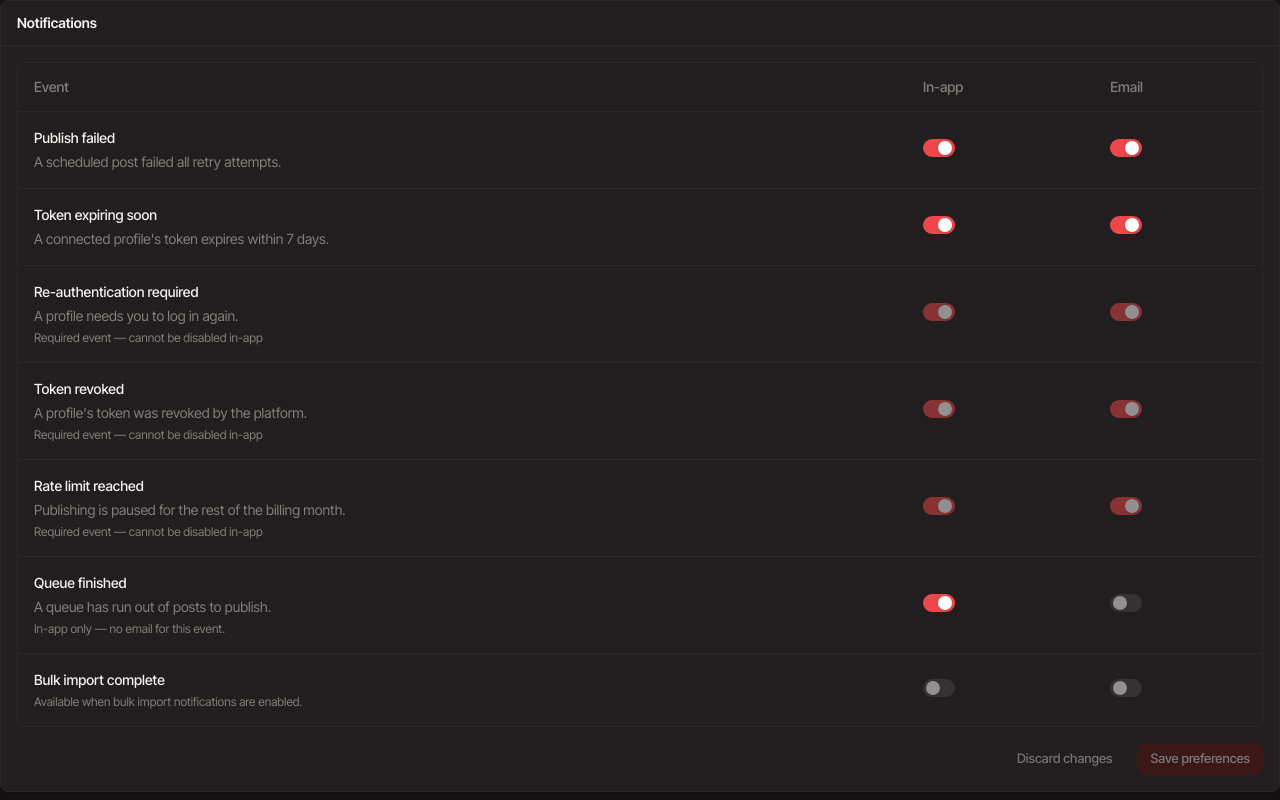
Test: NotificationsTab › clears dirty state after toggles are changed back to the saved values
Click the switch named "Token expiring soon in-app notifications".
click(939, 225)  # box top-left (923, 216), bottom-right (955, 234)
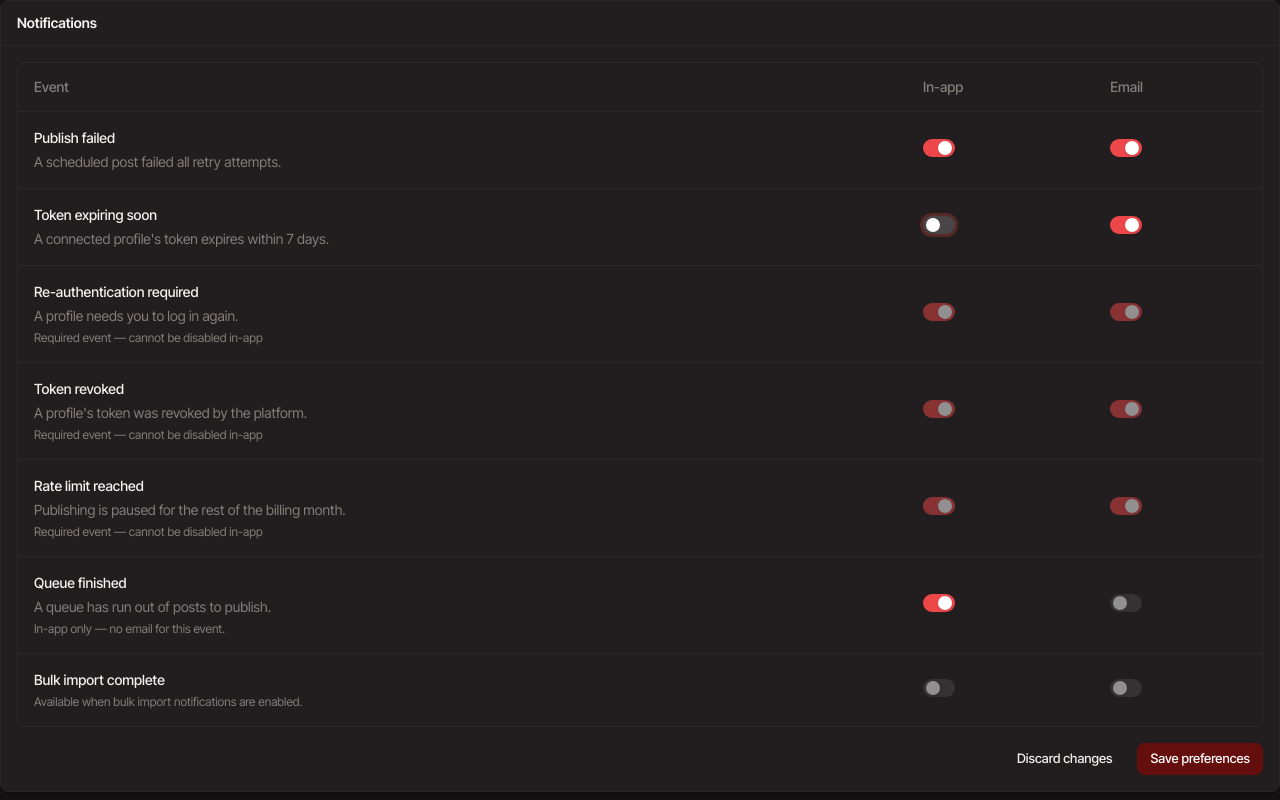
Expected: the button "Save preferences" is enabled, top-left (1138, 742), bottom-right (1263, 774)
Click the switch named "Token expiring soon in-app notifications".
click(939, 225)  # box top-left (923, 216), bottom-right (955, 234)
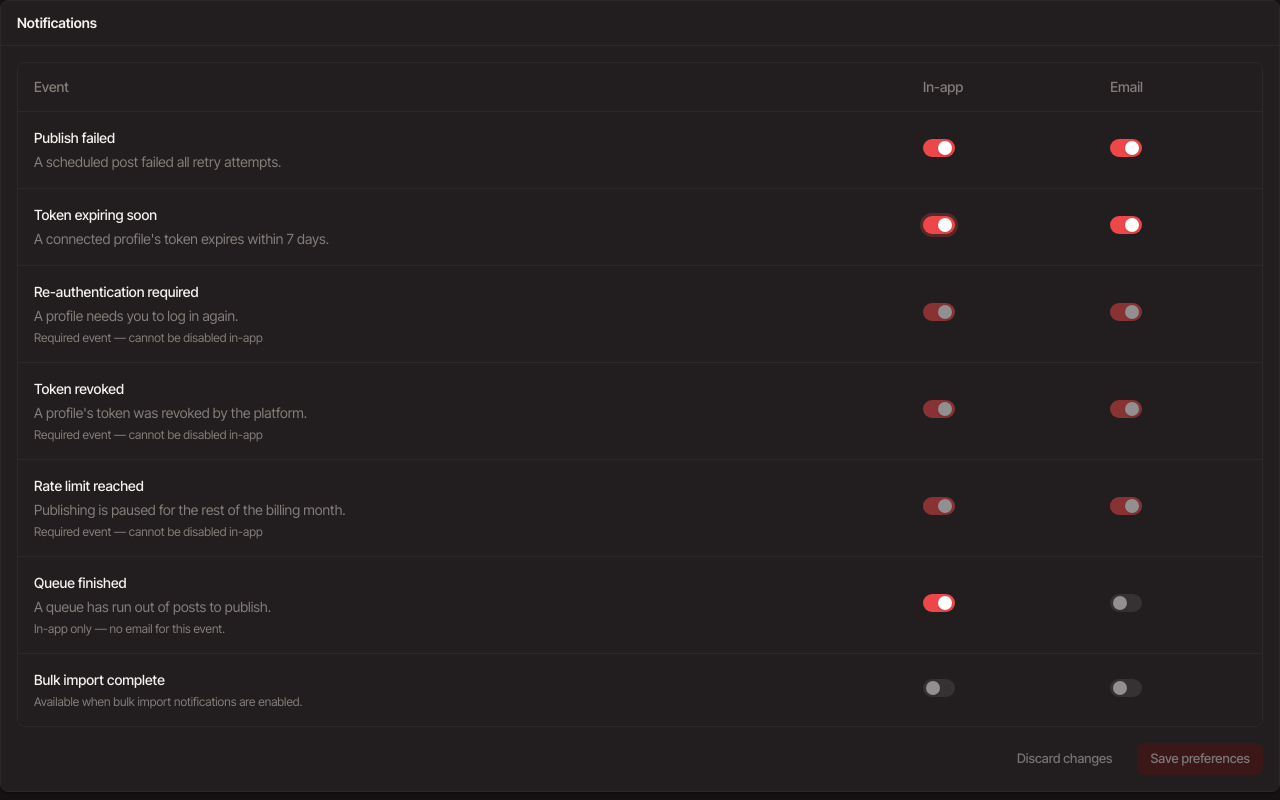
Expected: the button "Save preferences" is disabled, top-left (1138, 742), bottom-right (1263, 774)
Click the switch named "Token expiring soon in-app notifications".
click(939, 225)  # box top-left (923, 216), bottom-right (955, 234)
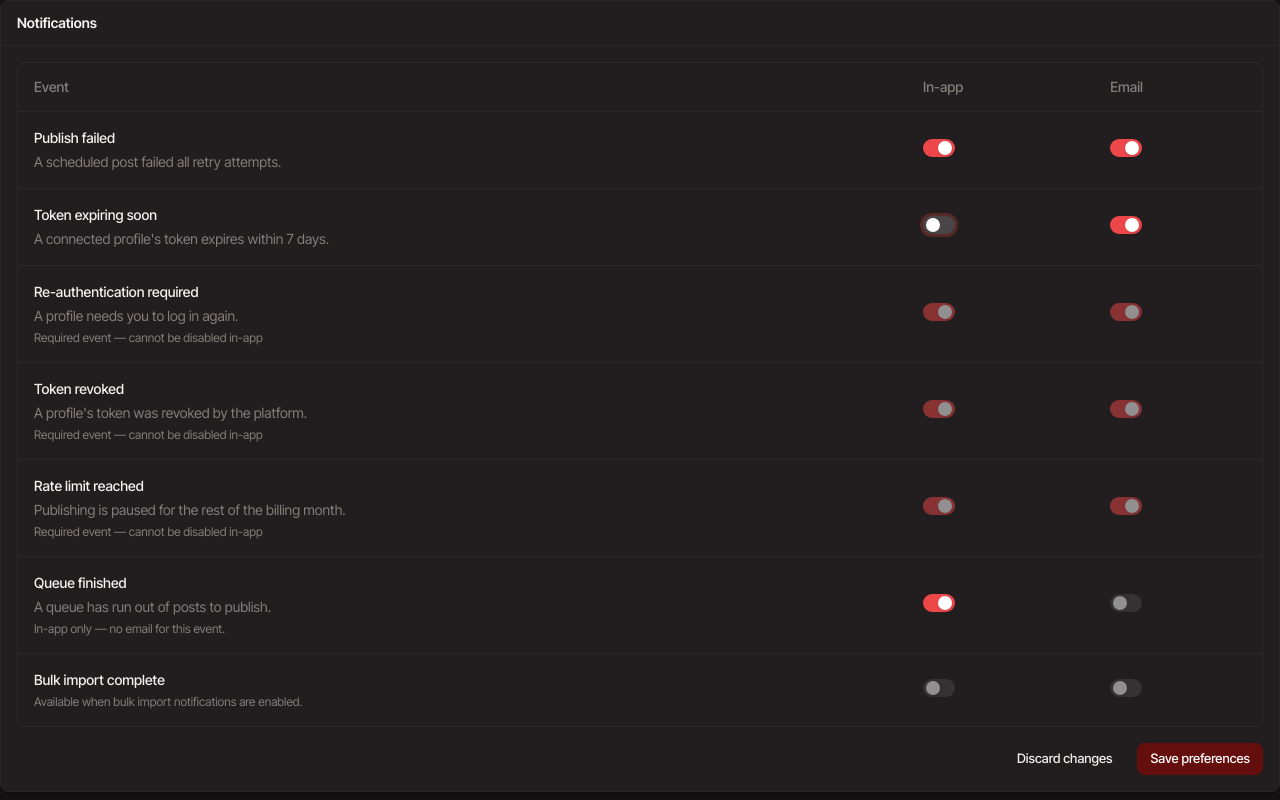
Click the switch named "Queue finished in-app notifications".
click(939, 603)  # box top-left (923, 594), bottom-right (955, 612)
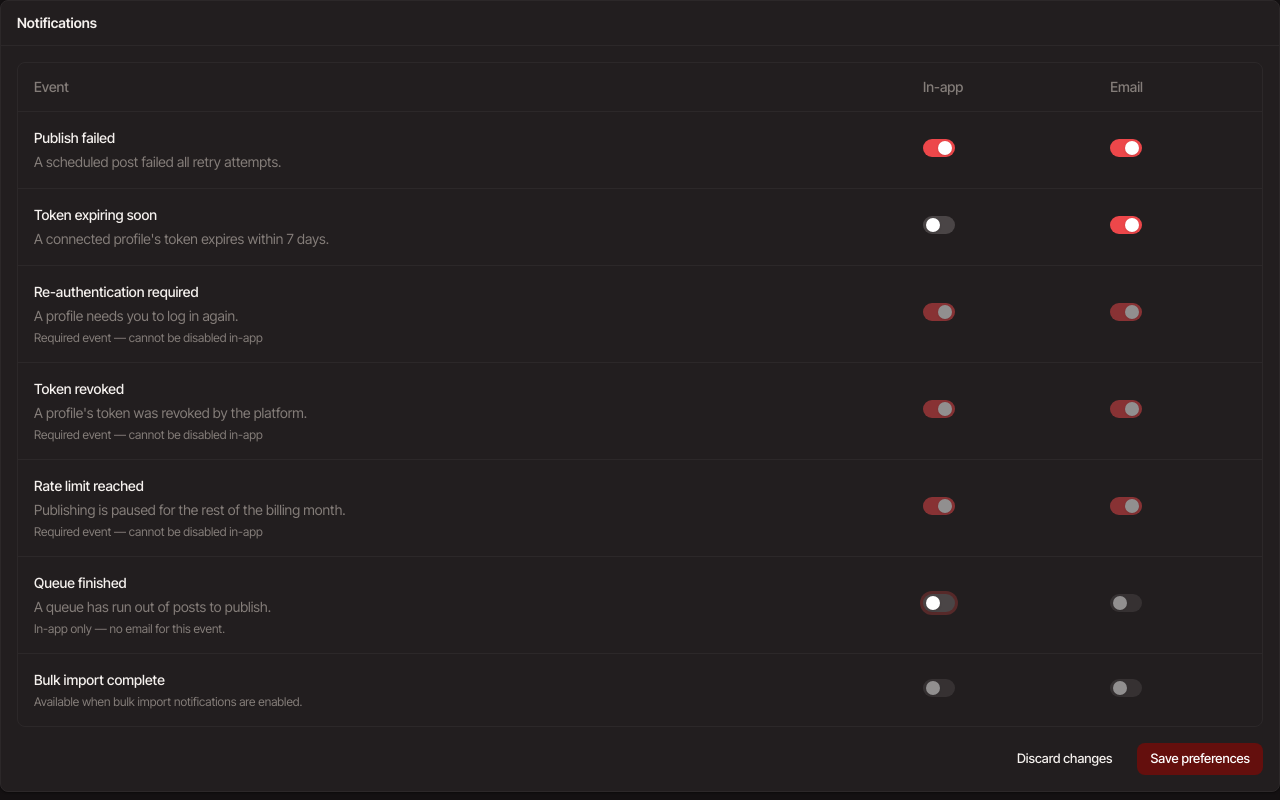
Expected: the button "Save preferences" is enabled, top-left (1138, 742), bottom-right (1263, 774)
Click the switch named "Token expiring soon in-app notifications".
click(939, 225)  # box top-left (923, 216), bottom-right (955, 234)
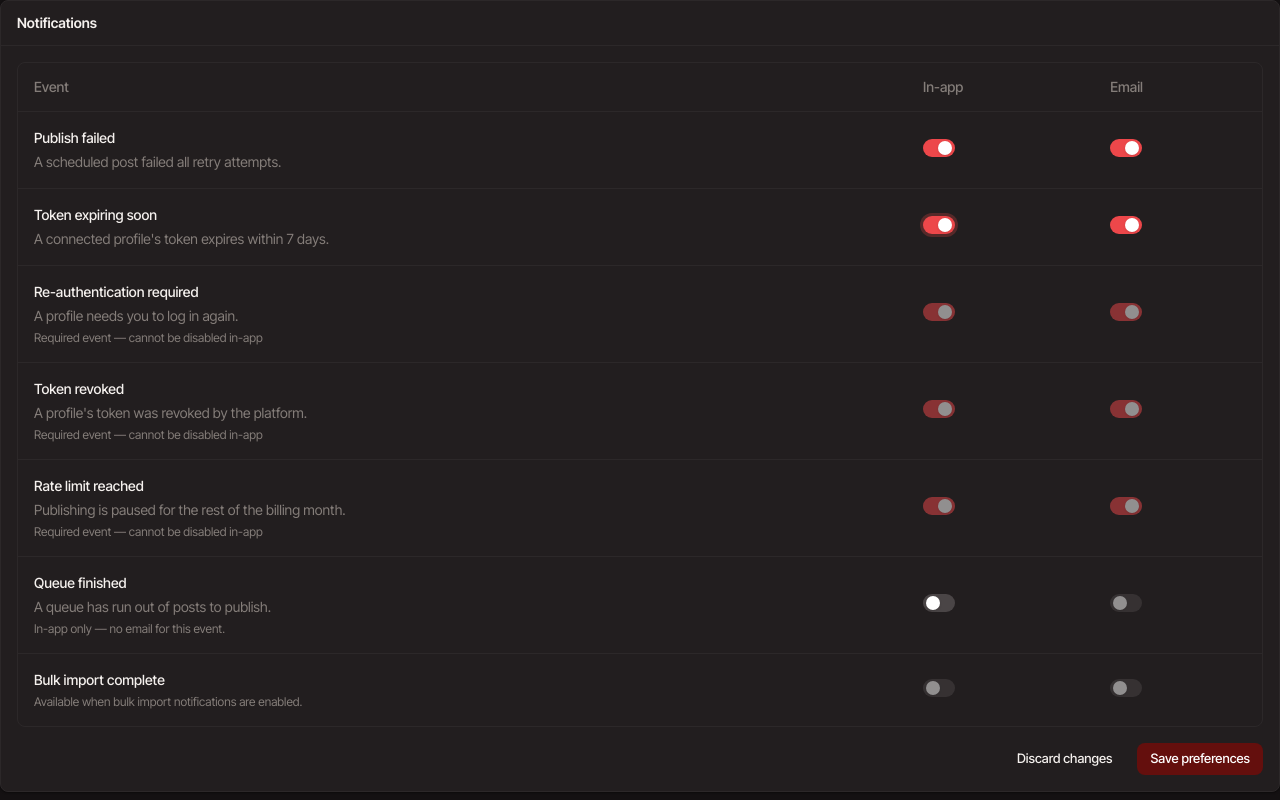
Click the switch named "Queue finished in-app notifications".
click(939, 603)  # box top-left (923, 594), bottom-right (955, 612)
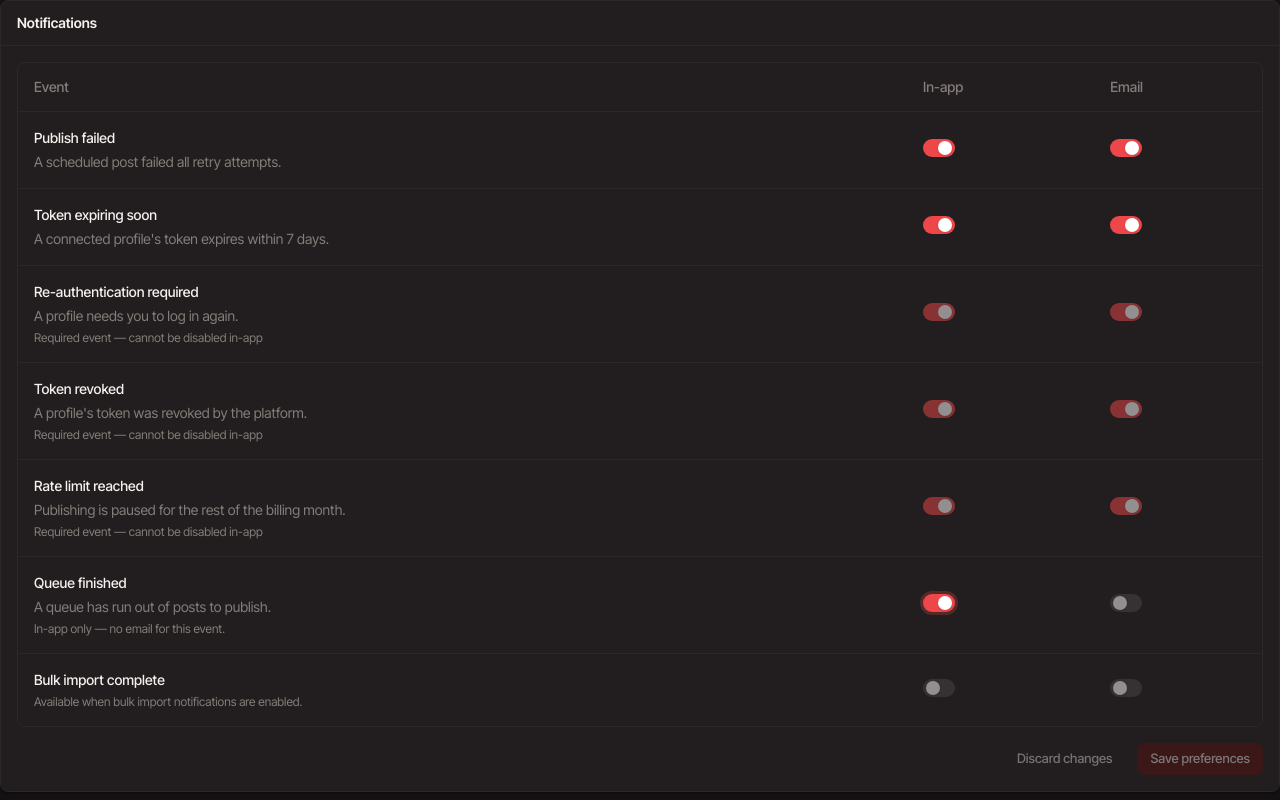
Expected: the button "Save preferences" is disabled, top-left (1138, 742), bottom-right (1263, 774)
